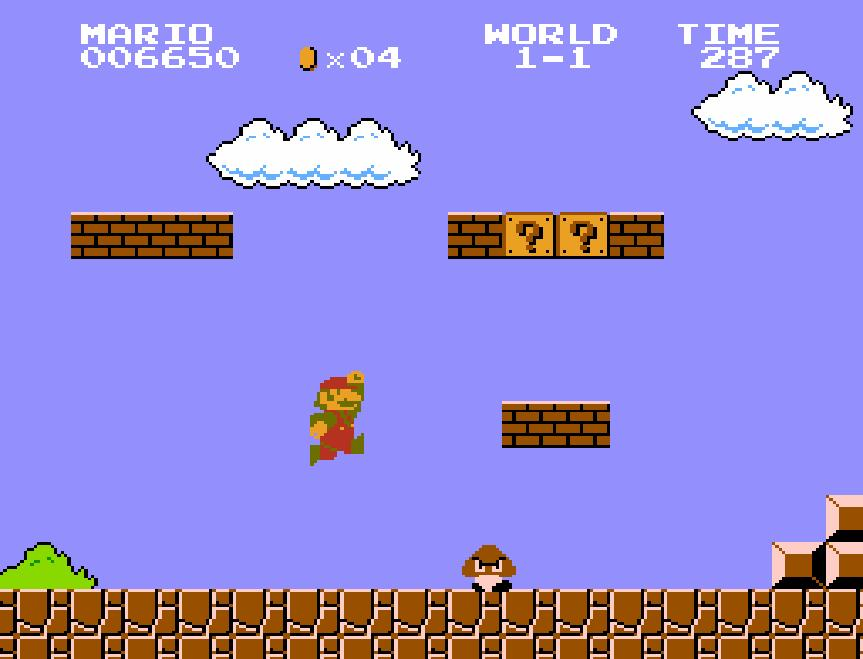big_mario: (308, 369, 366, 467)
